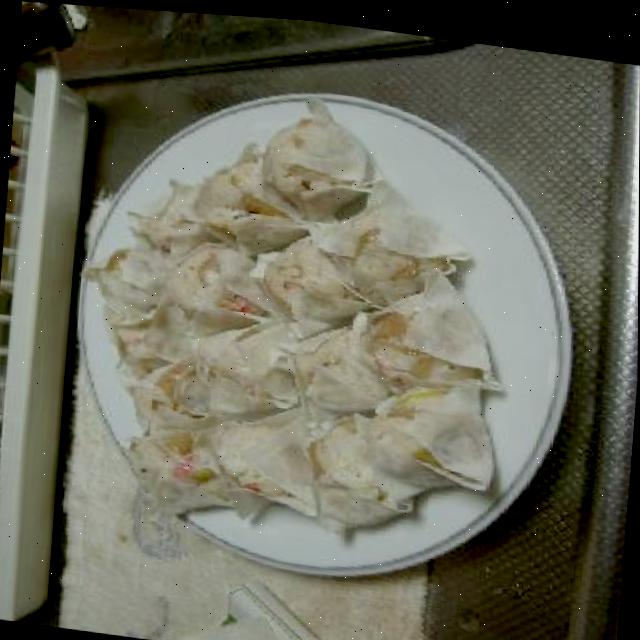带馅早点: (91, 150, 501, 486)
